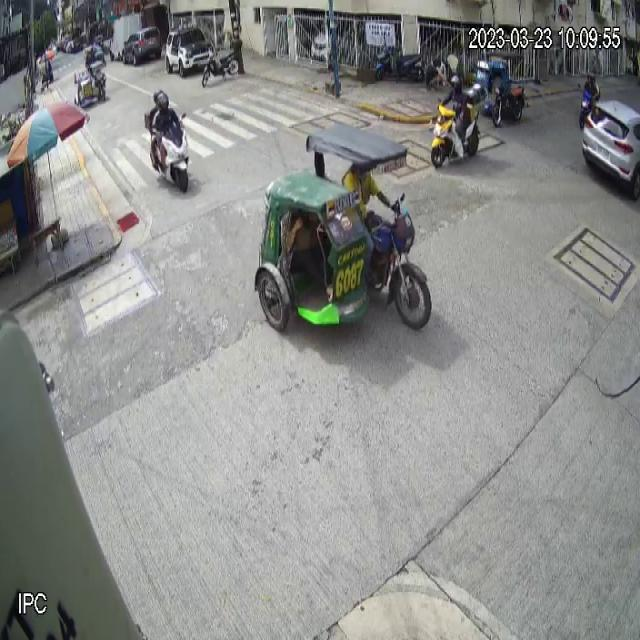Motorcycle: (430, 96, 480, 169), (150, 111, 192, 194)
Tricycle: (253, 118, 433, 336), (476, 51, 528, 128)
